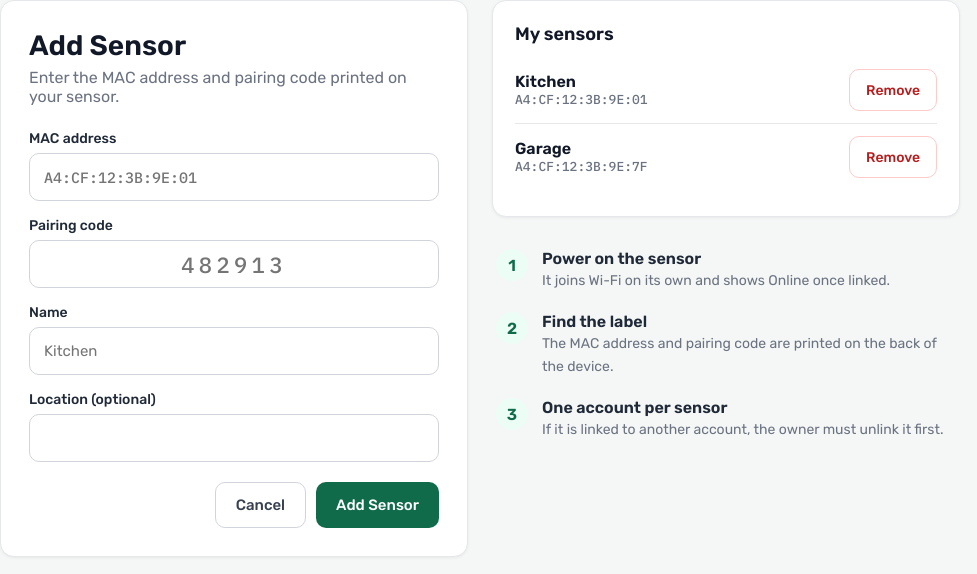
AddSensor my sensors › asks before removing, and cancel goes back
Step 1. Click the button "Remove" in the row of "Garage" → (893, 157), box [849,136,937,178]
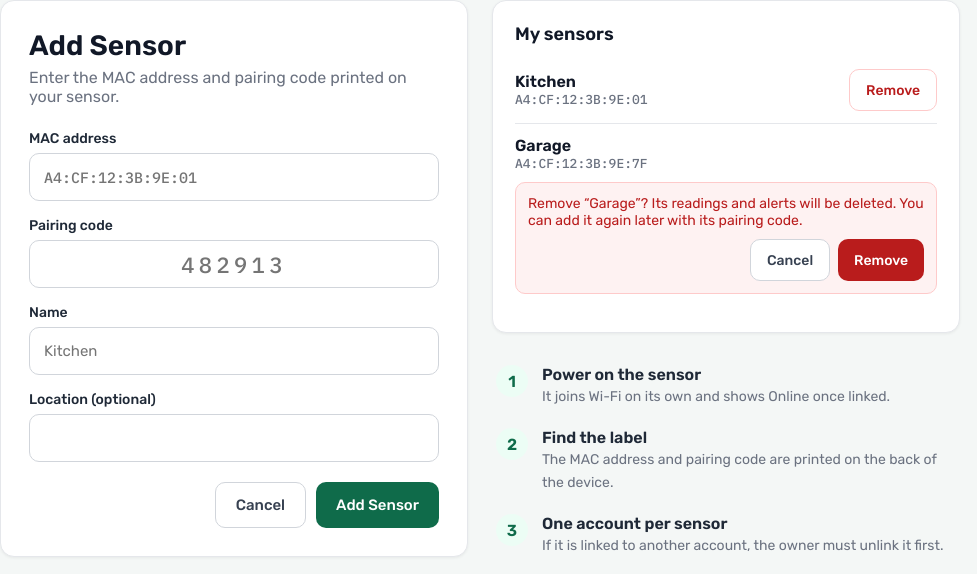
Step 2. Click the button "Cancel" → (790, 260), box [750,239,830,281]
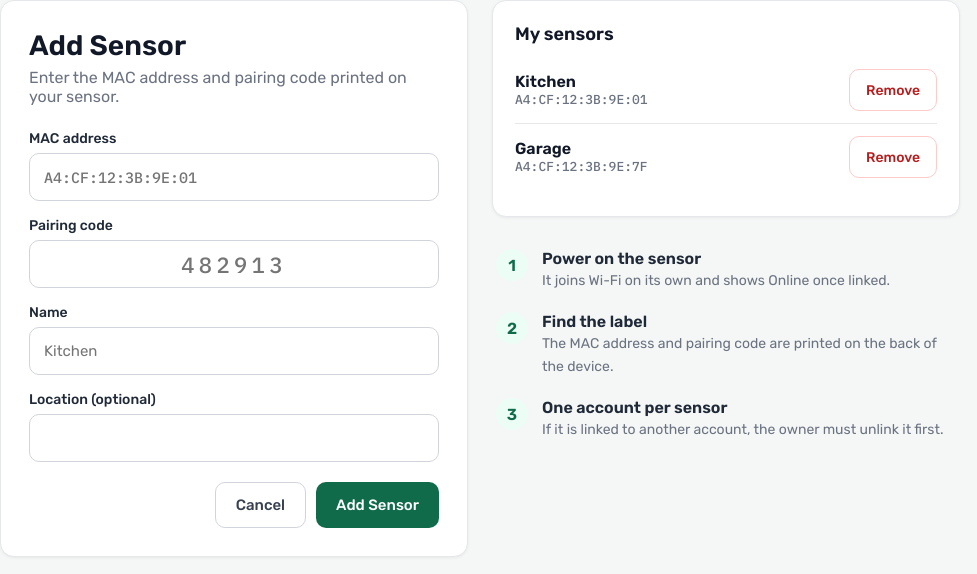
Expected: the element with class "sensor-confirm" is gone
